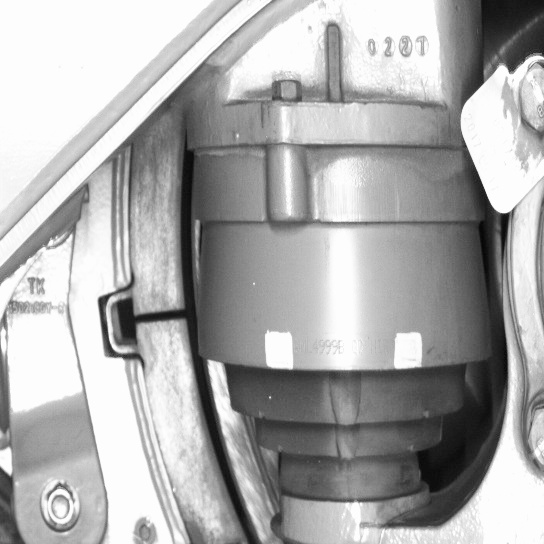KnifeSwitch: (137, 146, 264, 541)
